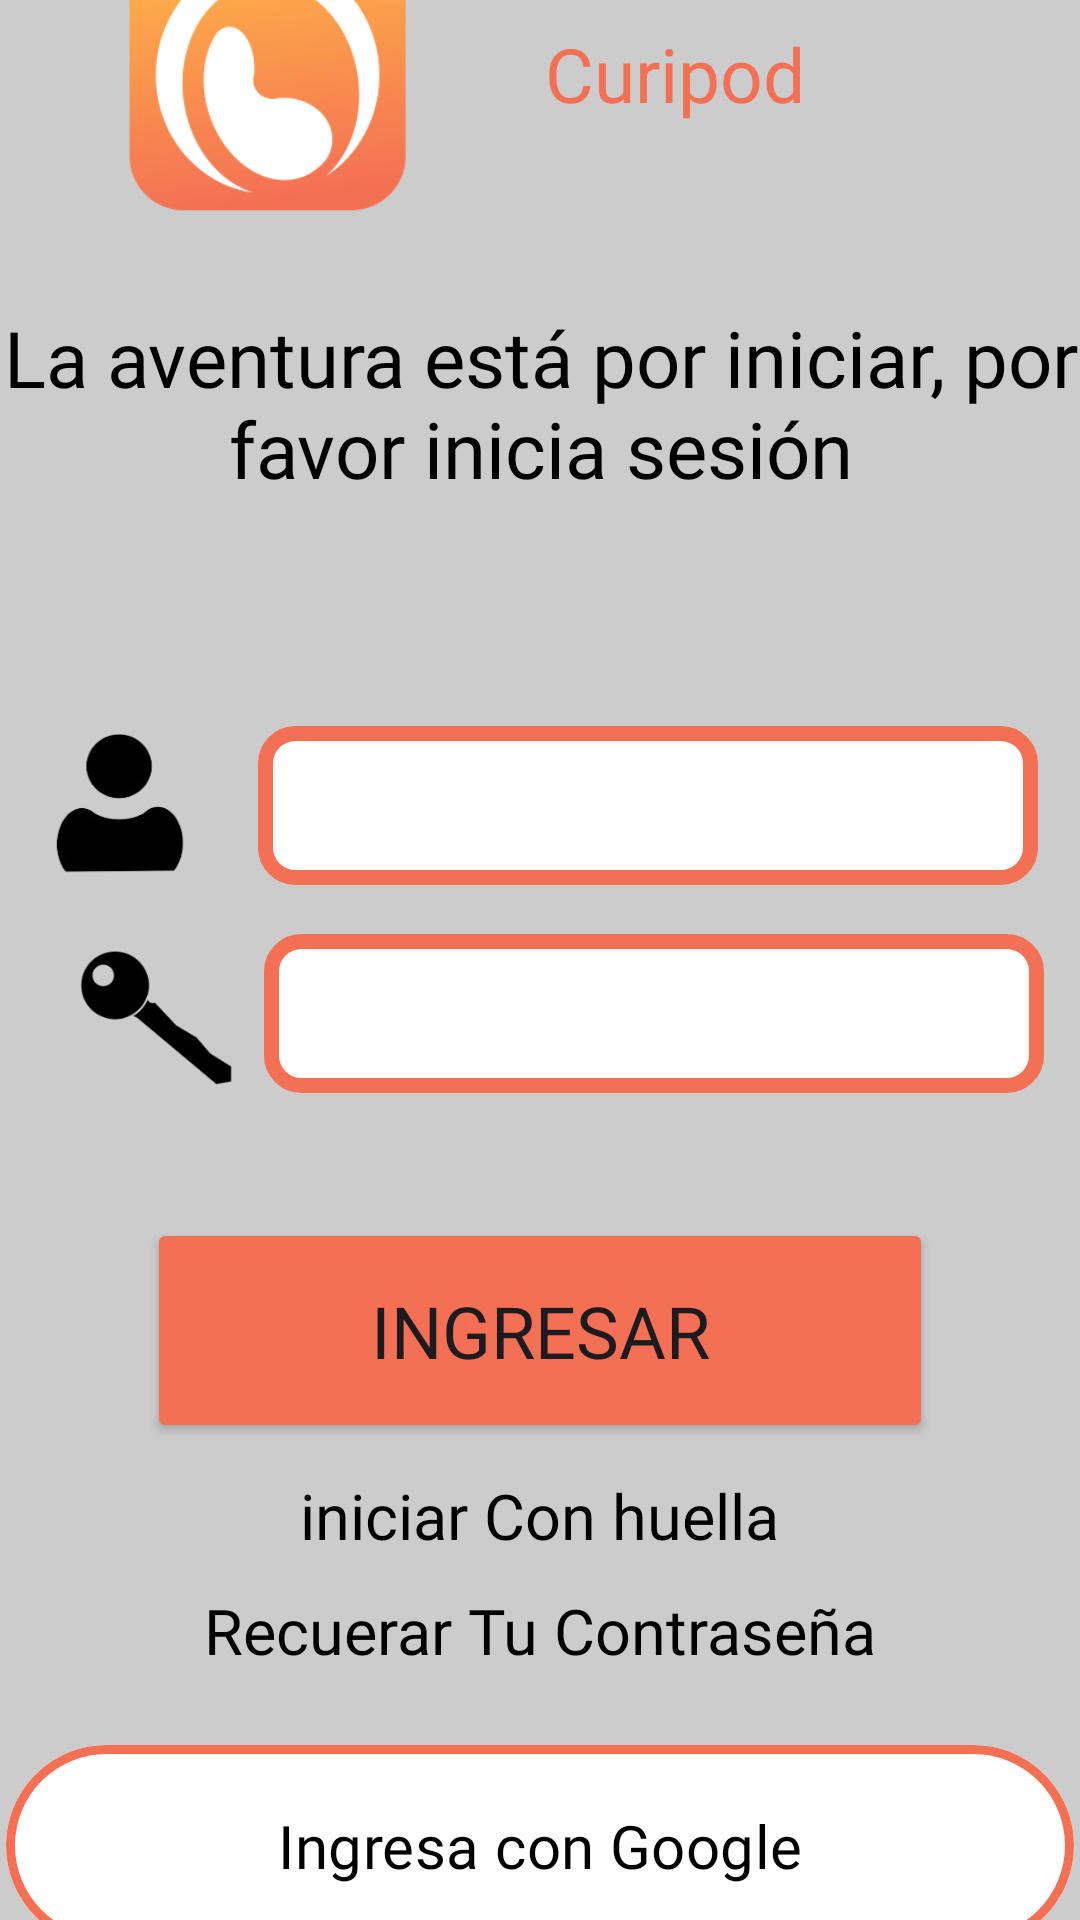

Icon click points for this 1080px x 1920px phone screenshot, format (x,y):
key: (156,1018)
People: (119,803)
